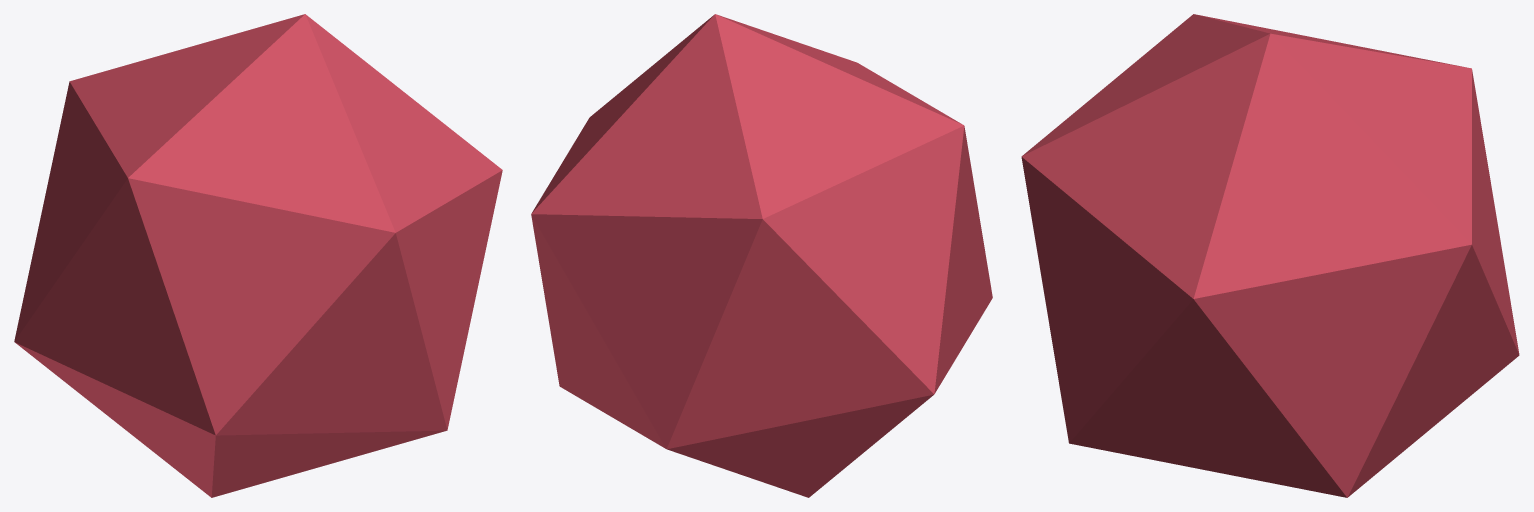
Rendered from Fantastic Elzing.glb.
3 renders of one model, left to right at view 1: azimuth 30°, elevation 25°; view 2: azimuth 150°, elevation 25°; view 3: azimuth 270°, elevation 25°, orthographic. The views are drawn at different scales.
Parts seen in each view (by area): view 1: Mesh_Mesh_head_geo.001_lambert2SG.001; view 2: Mesh_Mesh_head_geo.001_lambert2SG.001; view 3: Mesh_Mesh_head_geo.001_lambert2SG.001.
Boxes of the visible parts, x1,y1,x2,y2 form: Mesh_Mesh_head_geo.001_lambert2SG.001: (14, 14, 502, 497); Mesh_Mesh_head_geo.001_lambert2SG.001: (531, 14, 992, 497); Mesh_Mesh_head_geo.001_lambert2SG.001: (1021, 14, 1519, 497).
Bounding box in the file's own units: 0.0595 × 0.0629 × 0.0575.
